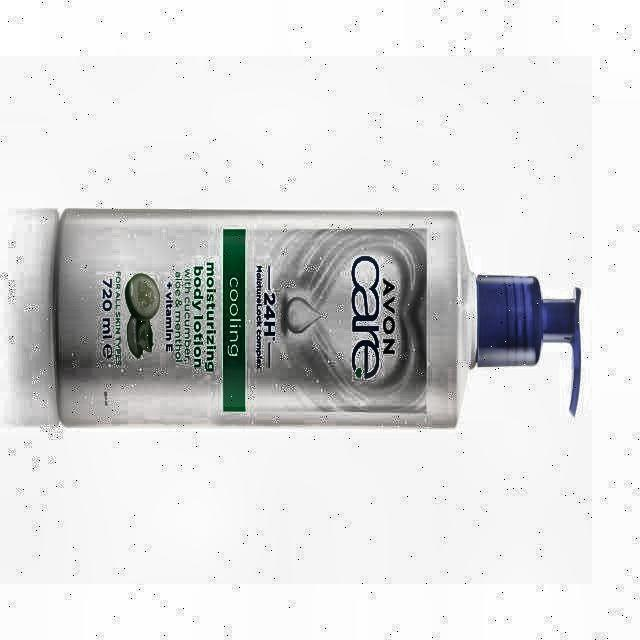plastic: (56, 209, 580, 427)
